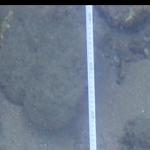dead: (1, 6, 148, 148)
